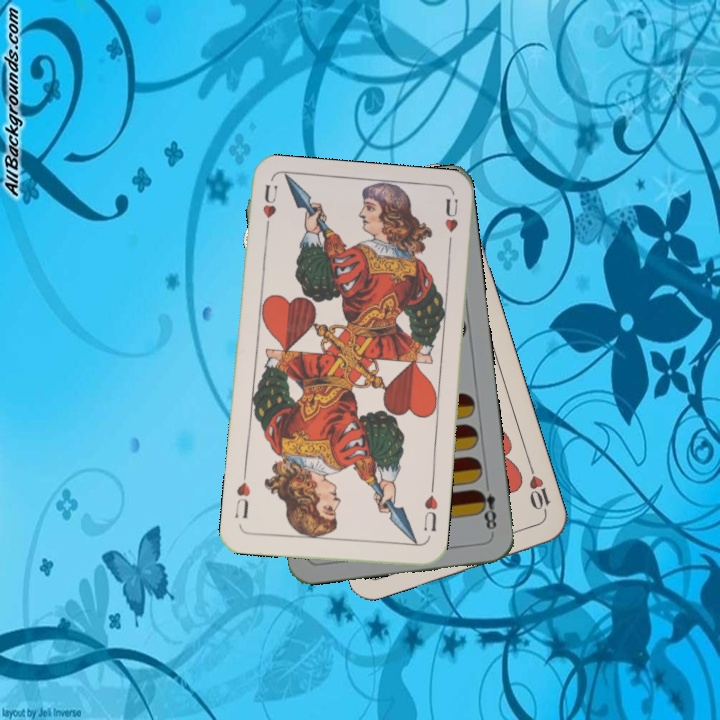E8: (473, 478, 499, 537)
H10: (525, 462, 553, 520)
HU: (258, 180, 280, 238), (419, 484, 440, 534)
